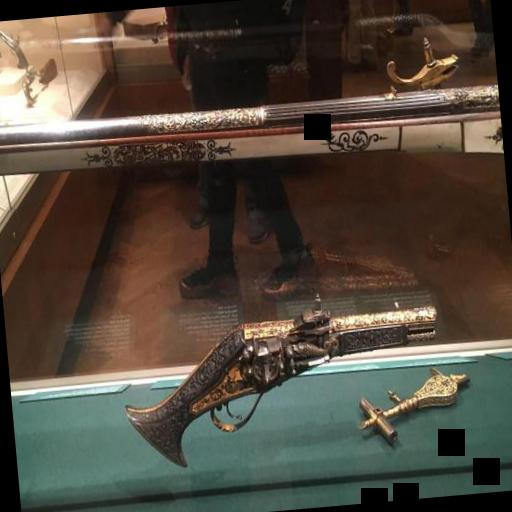Handgun: (114, 286, 448, 475)
